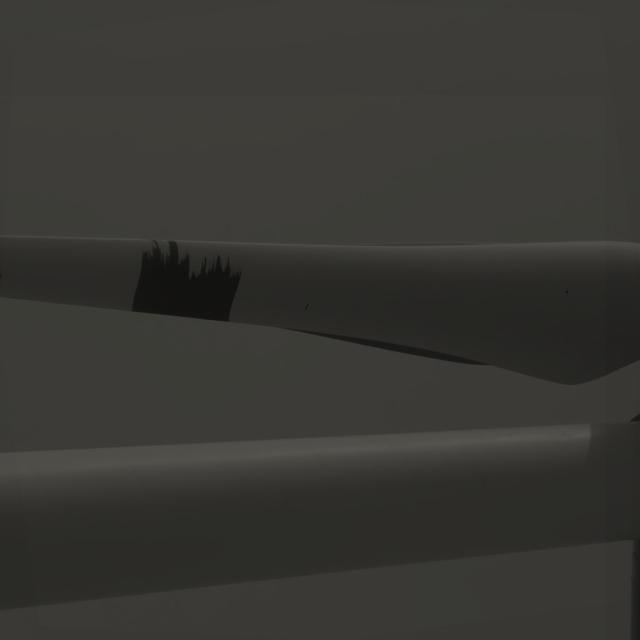surface_peeling: (130, 240, 244, 324)
